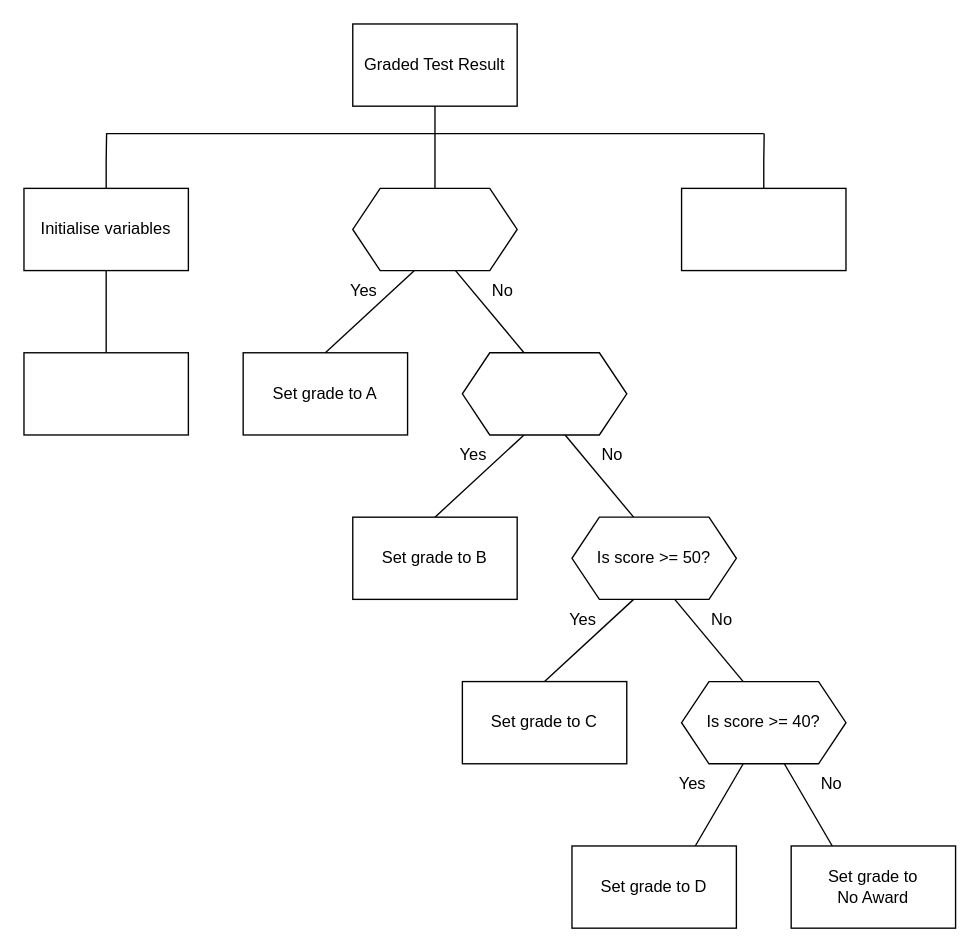
This 980x952 diagram has some shape labels left out. The shapes that lost their labels are listed below. From the top down, each one's box as (x1, y1, x2, y2) in pixels, then its label:
(351, 187, 517, 271): Is score >= 70?
(680, 187, 846, 271): Display grade
(23, 351, 188, 435): Get valid score
(461, 351, 627, 435): Is score >= 60?
